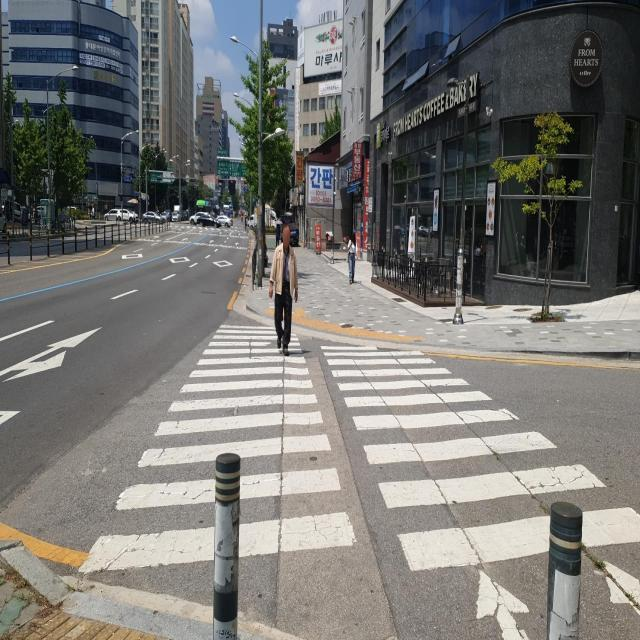횡단보도: (75, 318, 640, 640)
